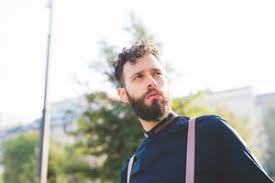white_male: (113, 45, 173, 119)
